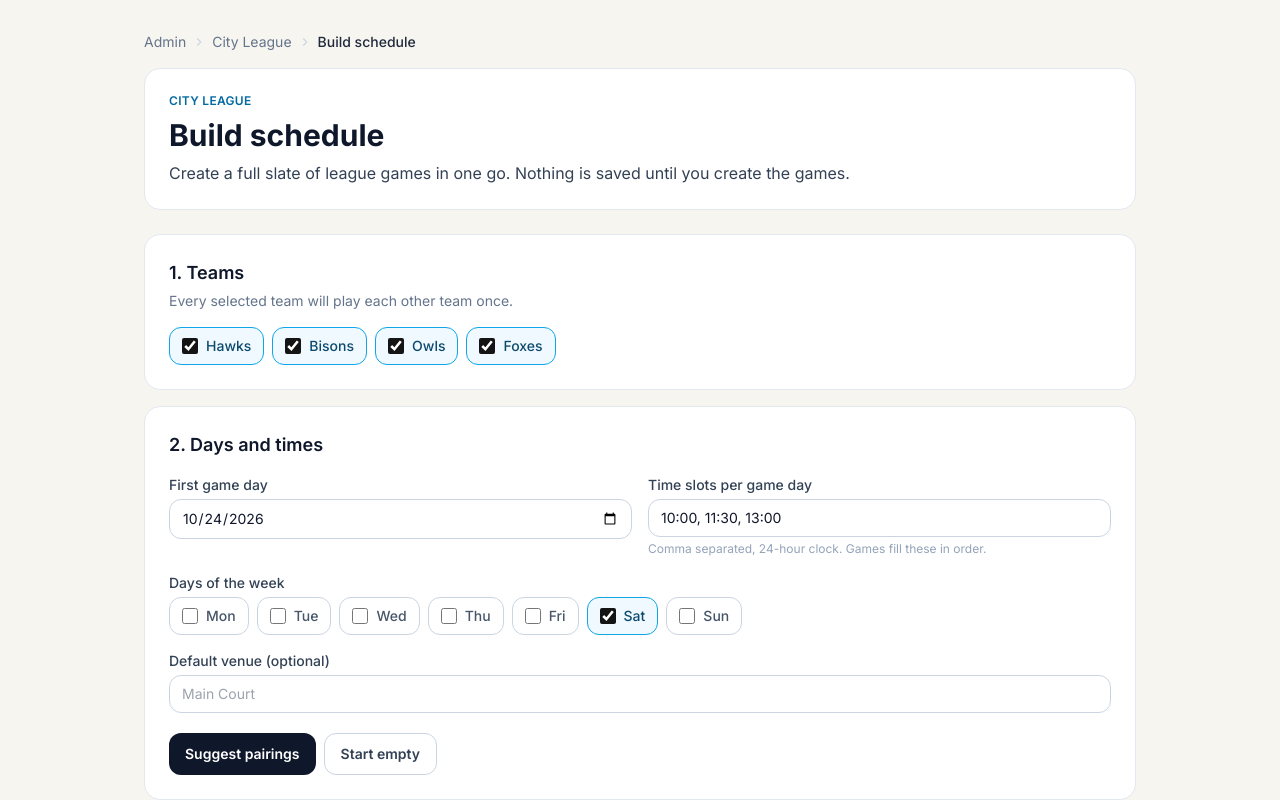
it: AdminLeagueSchedulePage › excludes a deselected team from the generated draft
Expected: the heading "Build schedule" is shown, [169,117,384,153]
Click the checkbox labelled "Foxes" at (488,346), box [480,338,496,354]
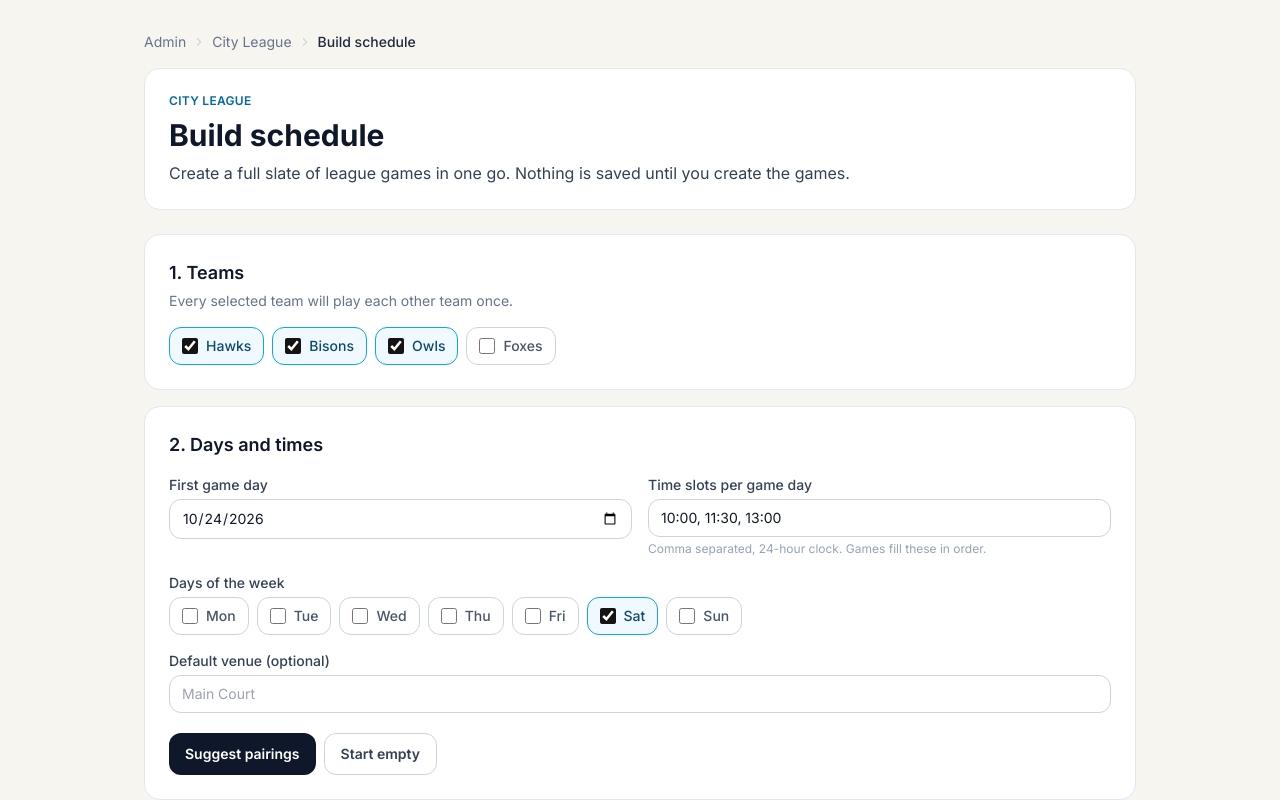
Click the button "Suggest pairings" at (242,754), box [169,733,316,775]
(page scrolled)
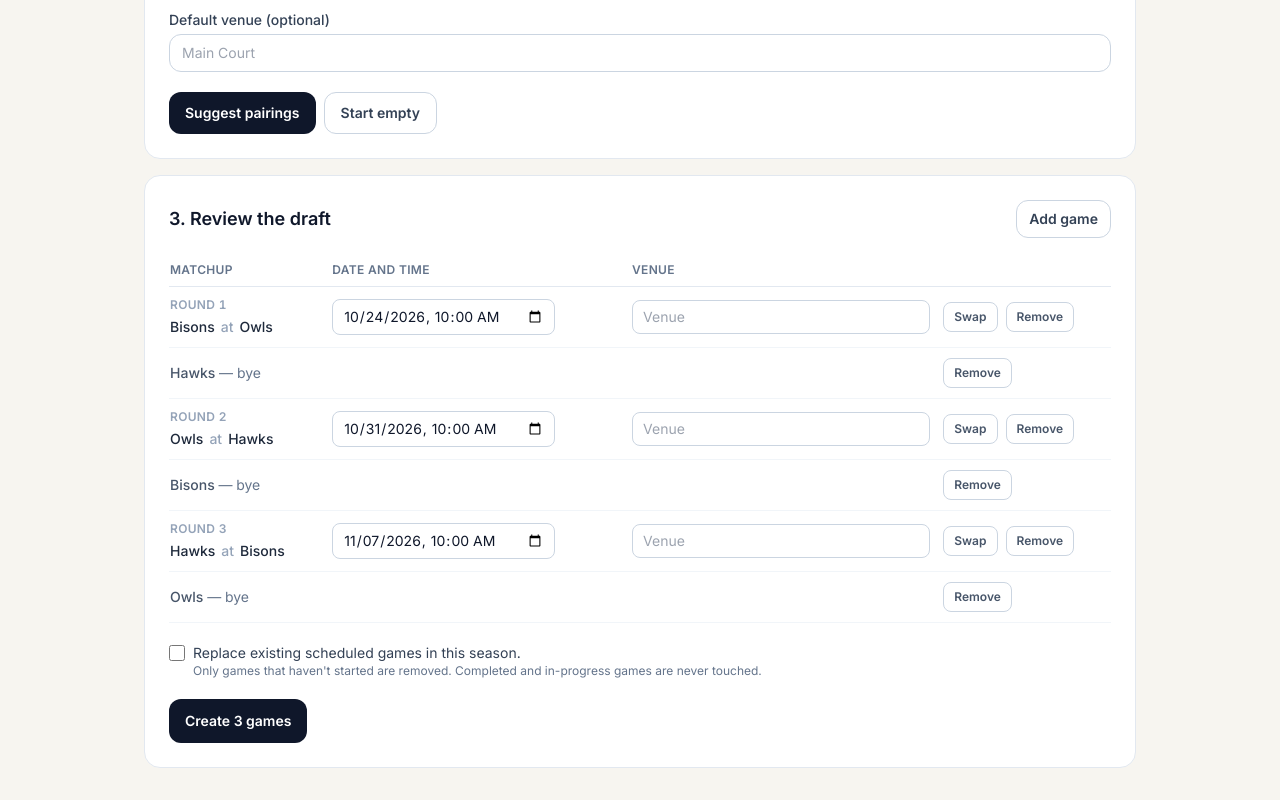
Expected: the button "Create 3 games" is shown, [169,699,307,743]
